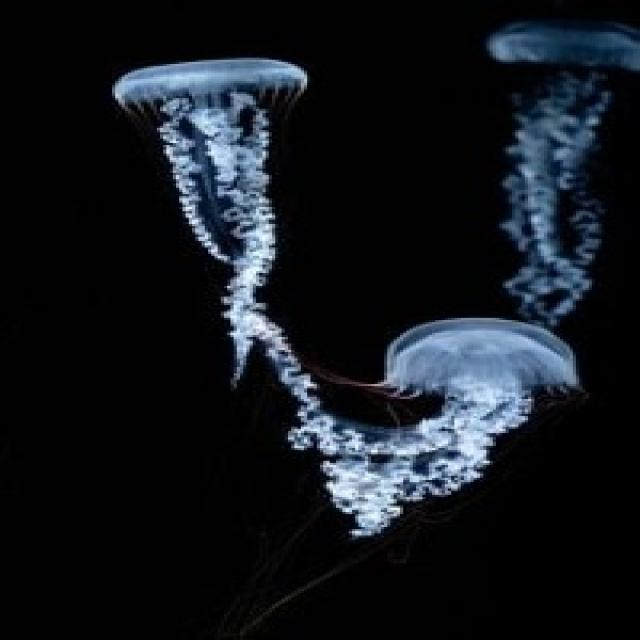Jellyfish: (115, 26, 339, 370), (319, 319, 622, 545), (469, 8, 640, 305)
